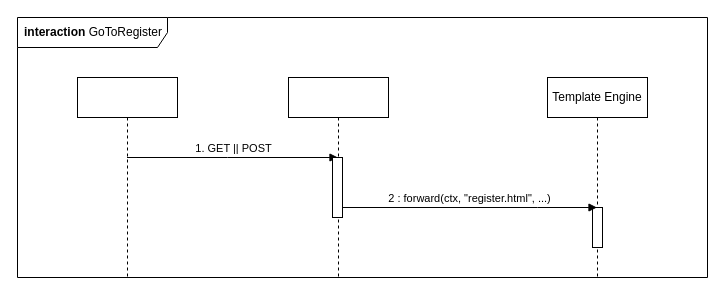
The diagram is 725 pixels wide and 295 high, and some of its shapes have lost their labels. The shapes that lost their labels are listed below. From the top down, each one's box as (x1, y1, x2, y2) in pixels, then its label:
(76, 76, 178, 278): Browser
(288, 76, 388, 278): GoToRegister
